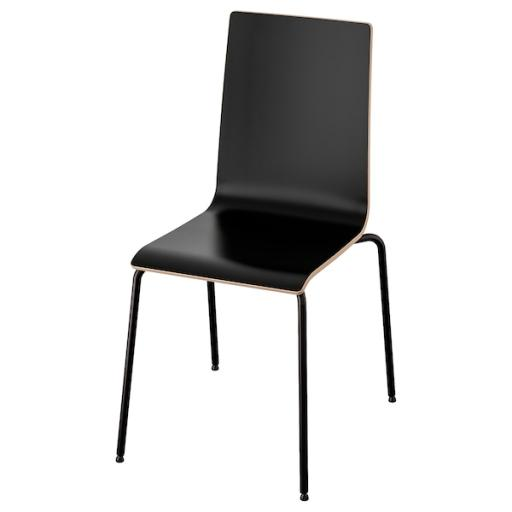chair: (116, 10, 395, 500)
